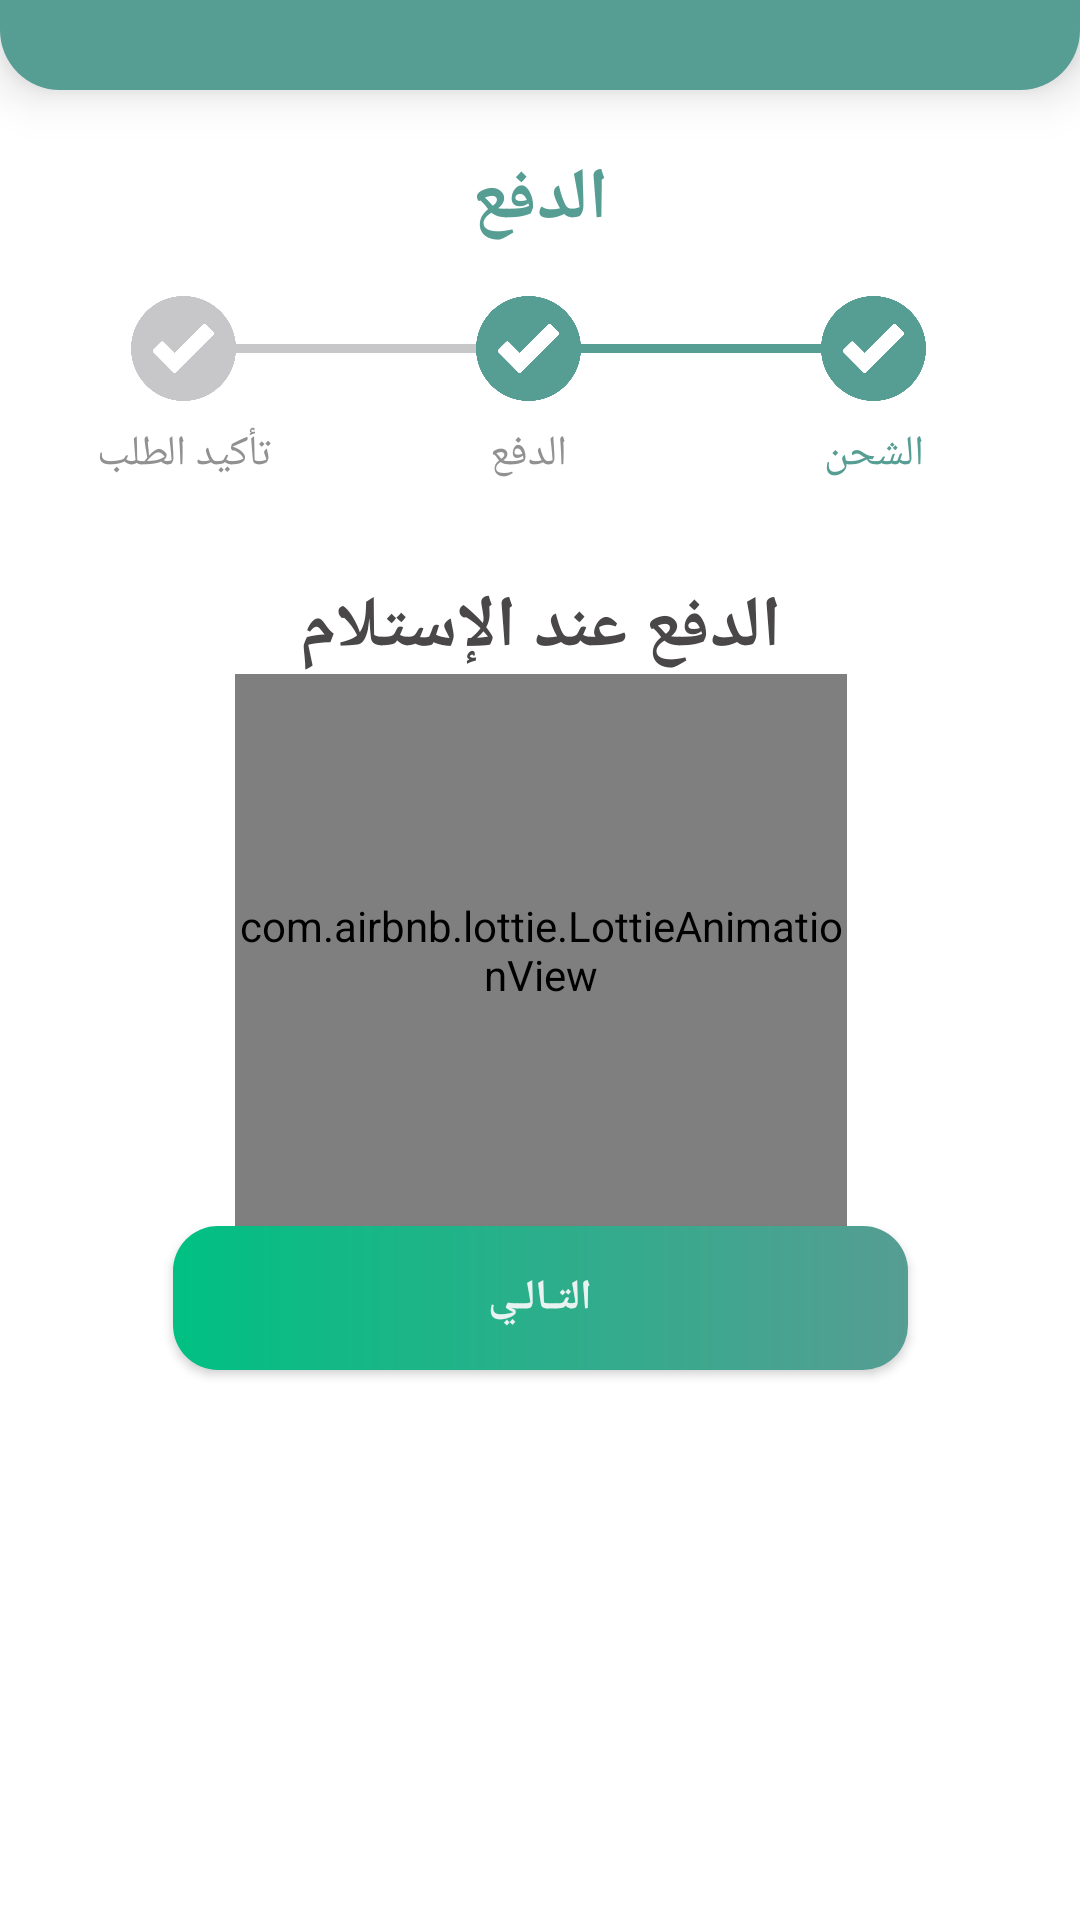

Where icons sit on this 1080 x 1920 app screen, as [x1,y1,x2,y2]:
accept: [131,296,236,401], [476,296,581,401], [821,296,926,401]
